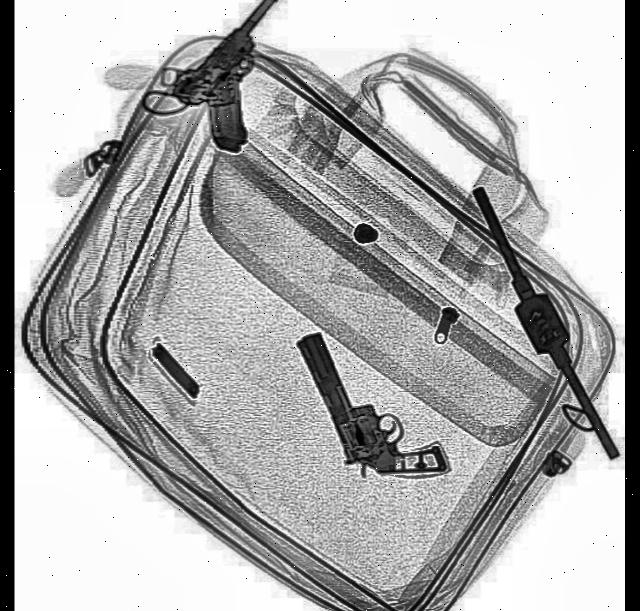Gun: (291, 293, 448, 514), (169, 0, 325, 159)
